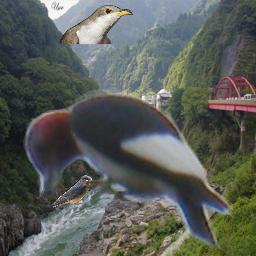Cuckoo: (60, 5, 133, 44)
Swallow: (51, 175, 93, 209)
Woodpecker: (18, 88, 238, 252)
